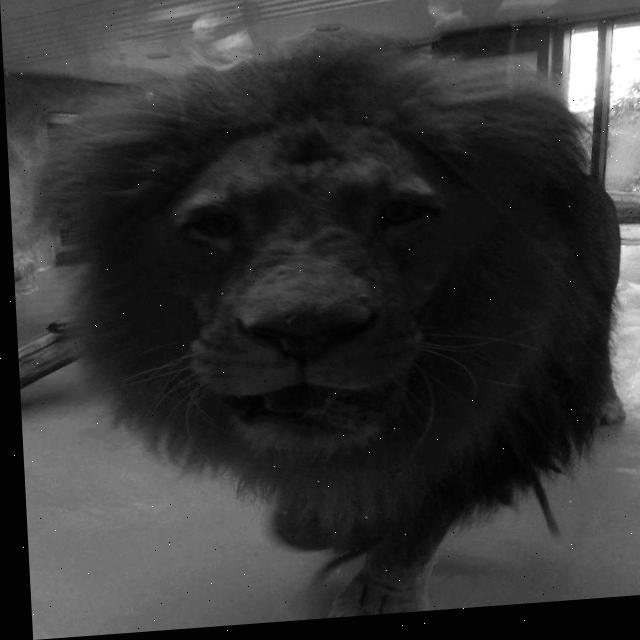Lion: (47, 35, 640, 608)
